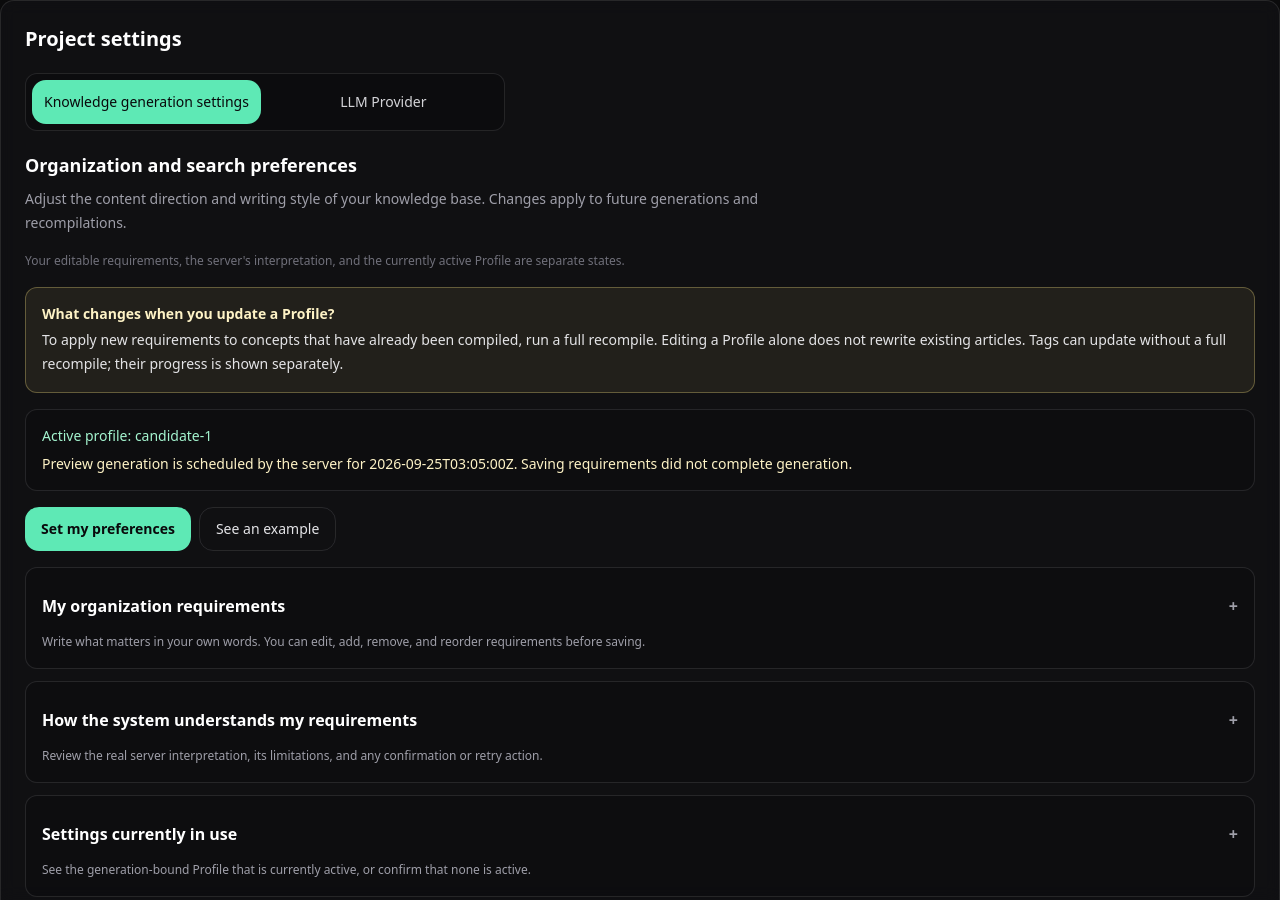
Scenario: LWC-211 Project Profile › shows retained active guidance after saving requirements clears the prior preview
The width and height of the screenshot is (1280, 900).
Click the button "Settings currently in use +": (140, 834) [42, 812, 1238, 856]
(page scrolled)
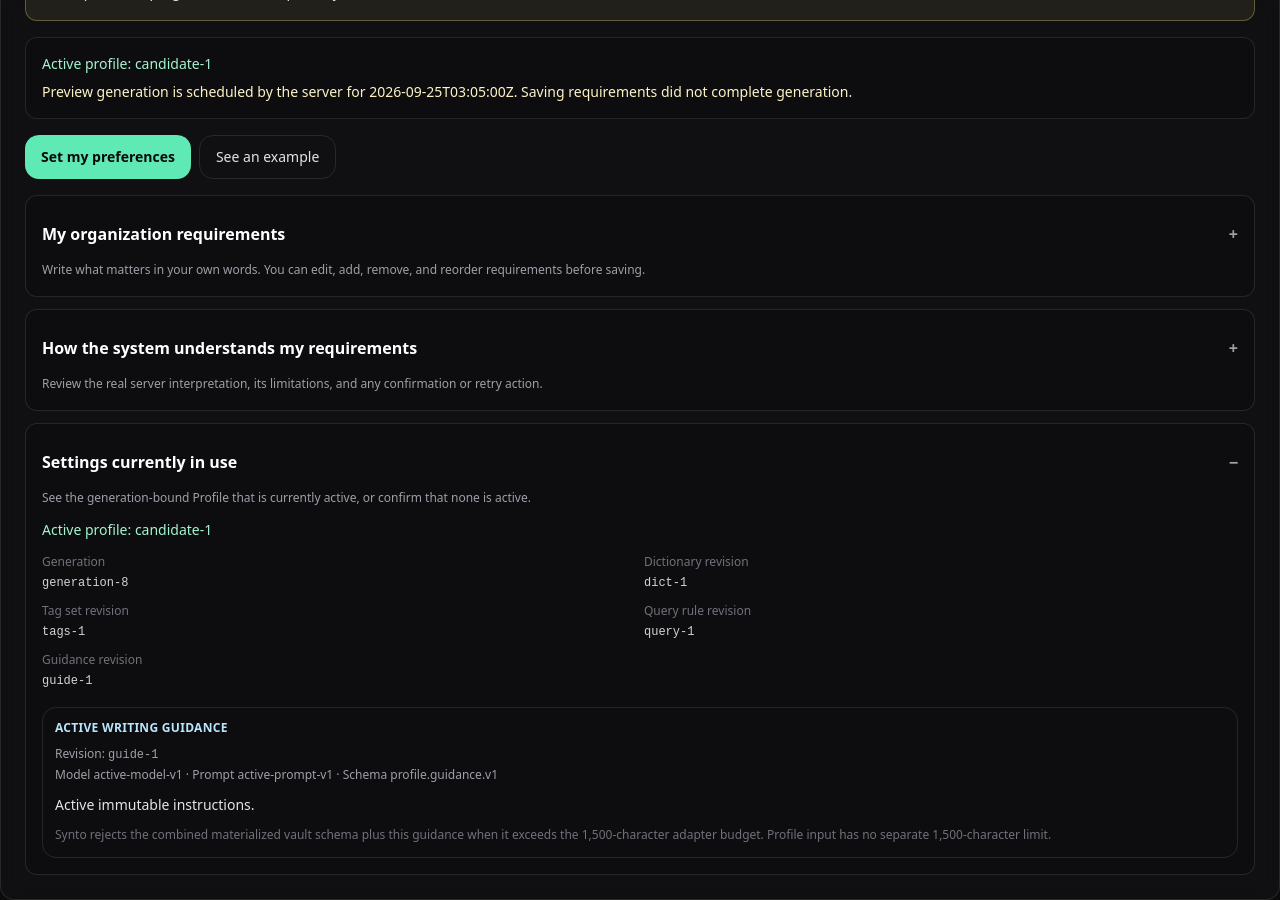
Expected: the text "Active immutable instructions." is shown, [55, 795, 254, 814]
Expected: the heading "Active writing guidance" is shown, [55, 719, 228, 736]
Expected: the text "1,500-character adapter budget" is shown, [55, 826, 1051, 843]
